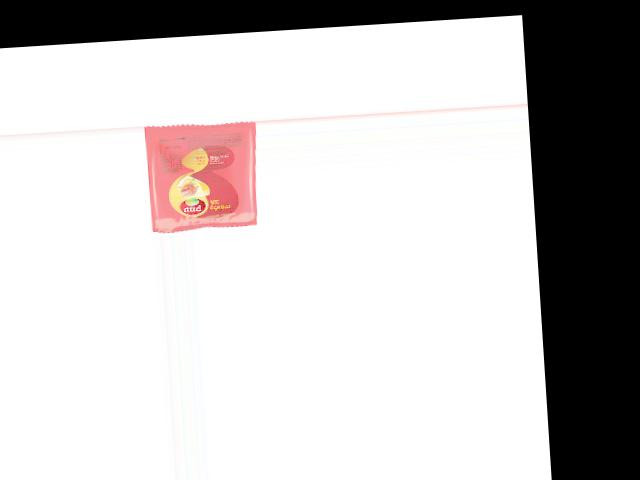cheese: (143, 119, 258, 232)
